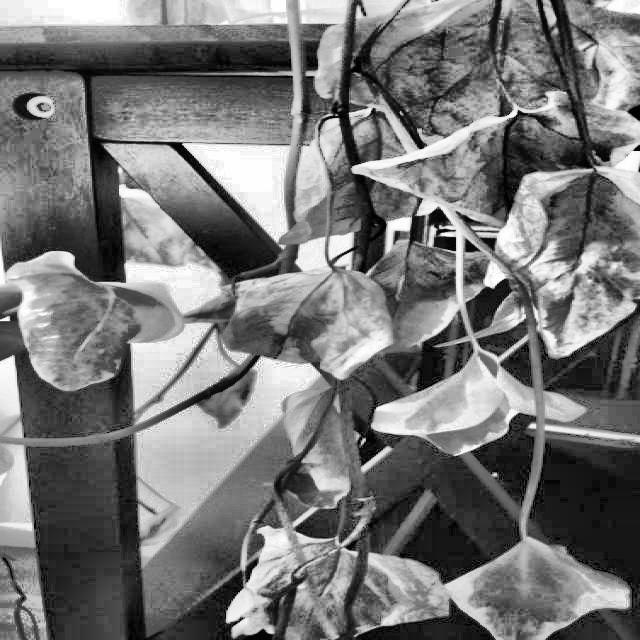plants: (222, 0, 638, 639)
